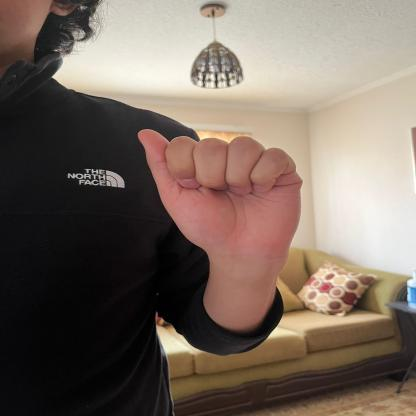A: (134, 122, 305, 250)
